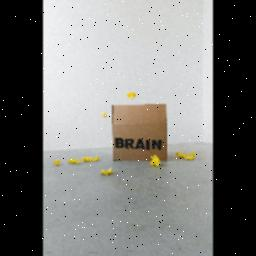a: (134, 138, 146, 150)
i: (146, 138, 152, 152)
n: (150, 138, 164, 150), (114, 137, 126, 149)
r: (126, 138, 136, 150)
